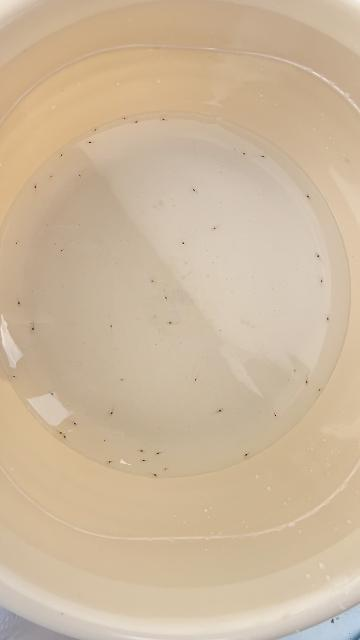benur: (140, 447, 146, 455), (217, 407, 225, 413), (159, 117, 166, 123), (108, 411, 114, 418), (139, 458, 146, 464), (153, 473, 161, 478), (314, 252, 320, 258), (166, 320, 172, 326), (108, 322, 114, 328), (17, 301, 22, 308), (105, 460, 112, 465), (192, 189, 199, 194), (120, 116, 126, 121), (60, 431, 66, 436), (163, 467, 168, 473), (243, 453, 248, 459), (179, 240, 185, 245), (192, 379, 197, 385), (163, 294, 168, 300), (305, 193, 310, 199), (31, 326, 35, 333), (135, 119, 140, 124), (60, 152, 65, 157), (33, 183, 38, 188), (49, 391, 54, 396), (154, 452, 159, 457), (243, 152, 248, 157), (211, 227, 216, 232), (119, 377, 124, 382), (274, 414, 278, 420), (320, 276, 324, 282), (94, 127, 99, 131), (77, 173, 82, 177), (74, 423, 79, 427), (102, 439, 107, 443), (326, 318, 330, 323), (262, 155, 267, 159), (63, 433, 66, 439), (305, 380, 308, 386), (87, 140, 91, 144), (49, 174, 53, 178), (14, 242, 18, 246), (59, 249, 63, 253), (11, 375, 16, 378), (319, 387, 322, 392), (293, 369, 296, 372), (151, 280, 154, 282)
